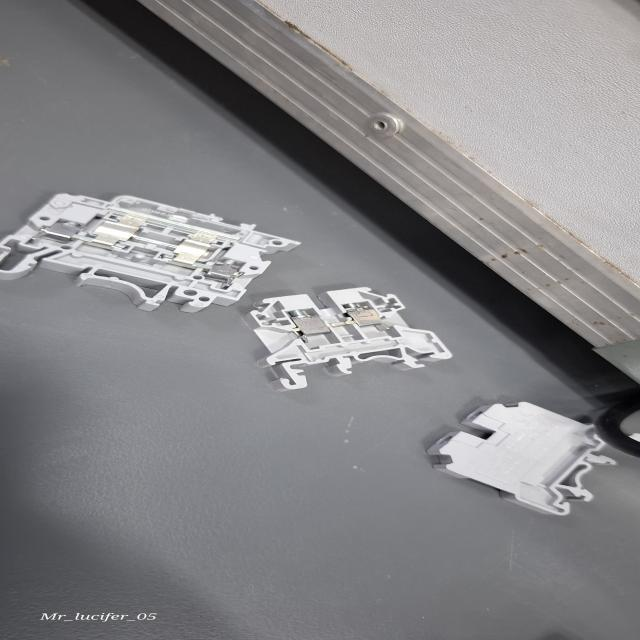Inverted: (418, 391, 636, 515)
Reject: (220, 280, 471, 394)
